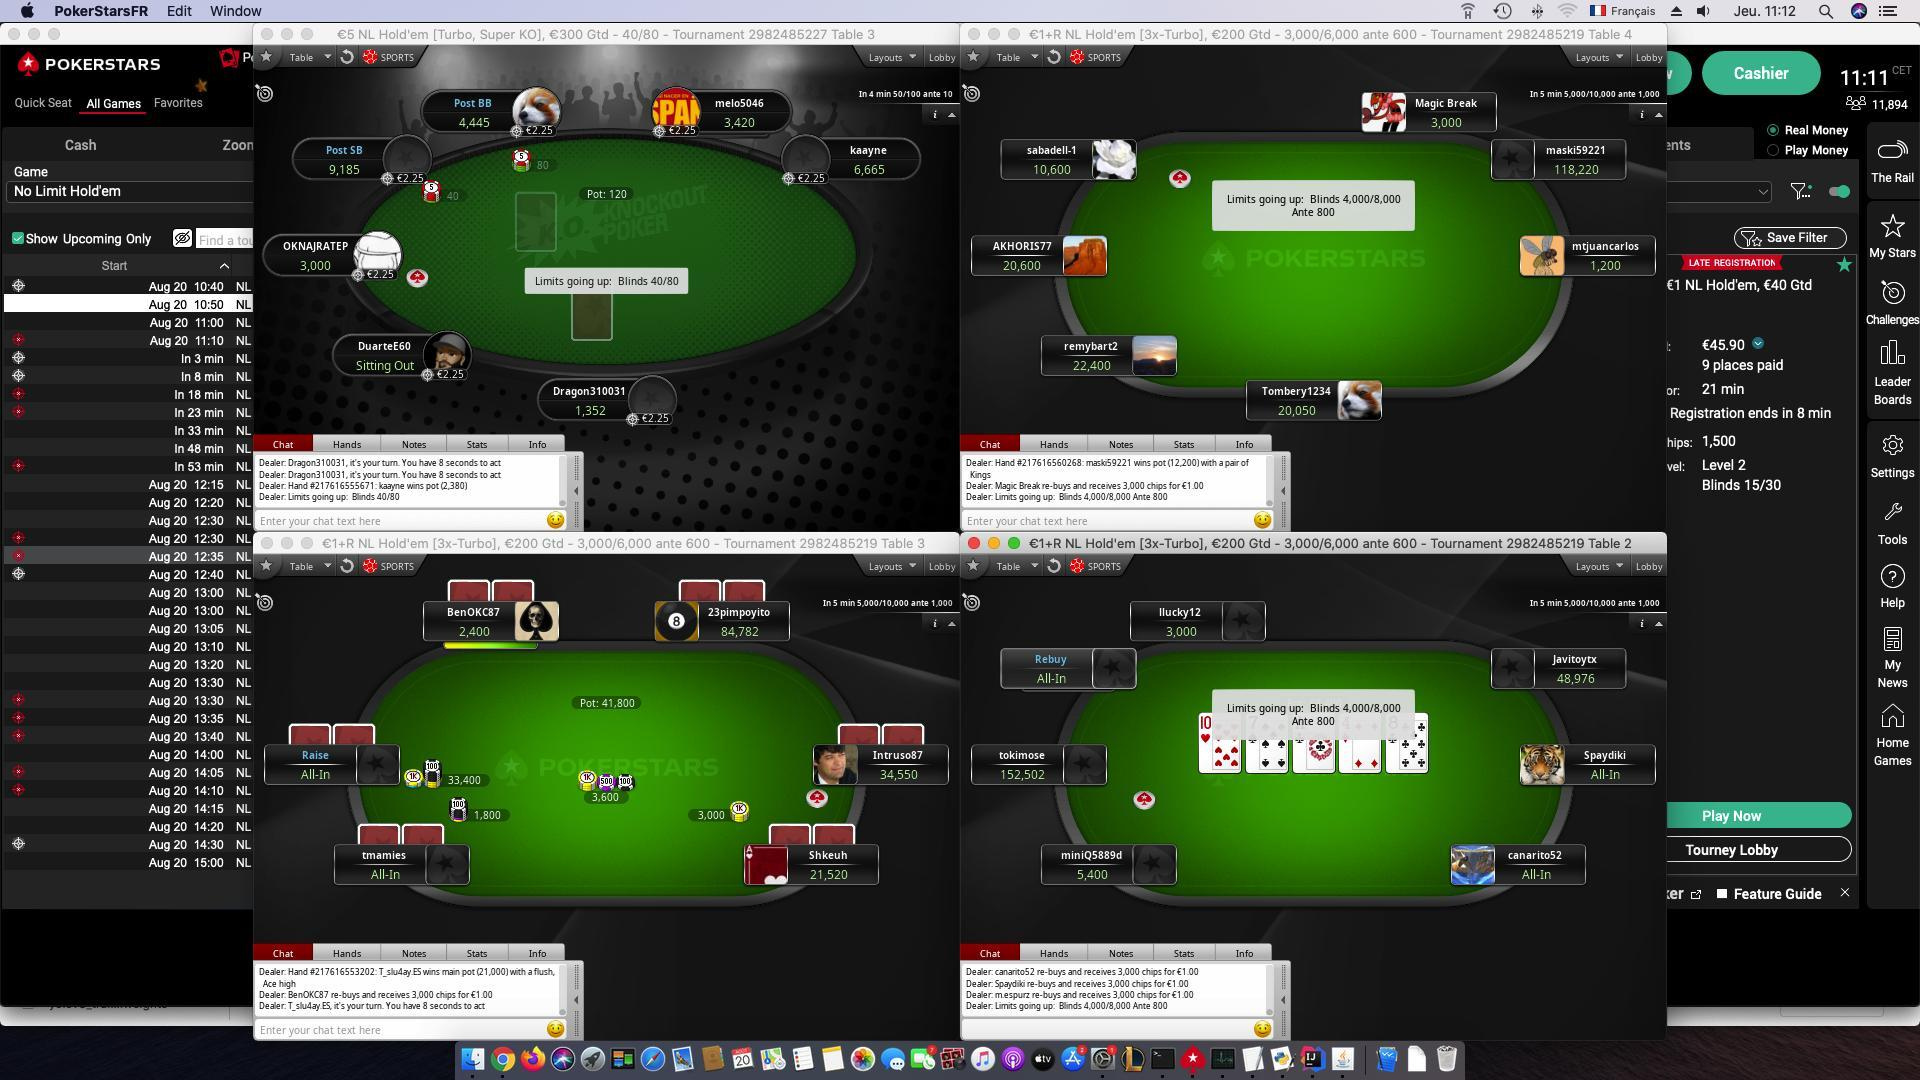10H: (1195, 703, 1215, 748)
8C: (1386, 713, 1402, 749)
